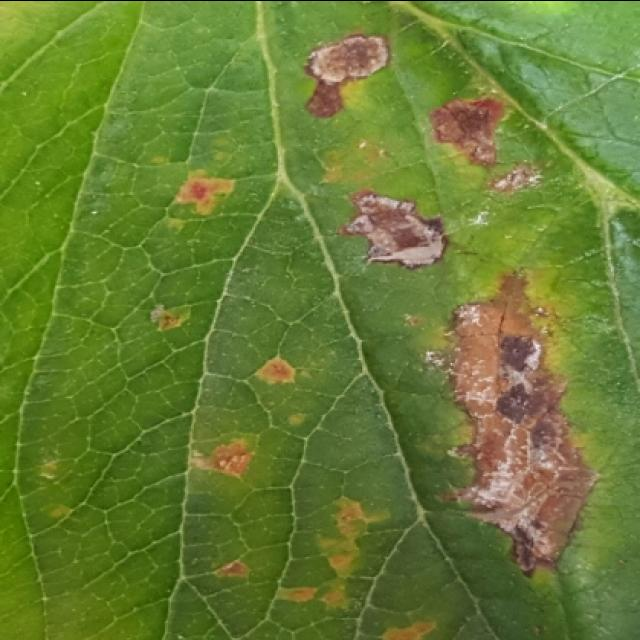Angular Leafspot: (30, 19, 606, 640)
